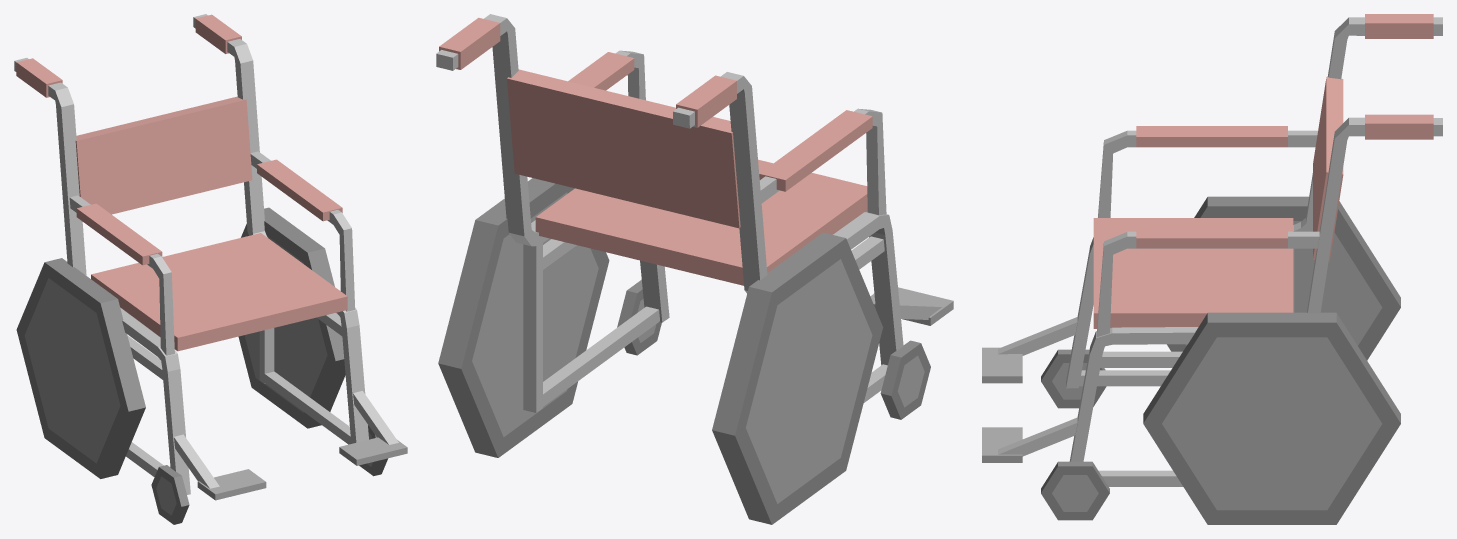
The model's file is wheelchair.fbx.
3 views of the same model, side by side, from view 1: azimuth 30°, elevation 25°; view 2: azimuth 150°, elevation 25°; view 3: azimuth 270°, elevation 25° (orthographic). The views are drawn at different scales.
Visible parts, largest first — view 1: Cube_2; view 2: Cube_2; view 3: Cube_2.
Boxes of the visible parts, x1,y1,x2,y2 form: Cube_2: [14, 14, 407, 524]; Cube_2: [436, 14, 953, 524]; Cube_2: [982, 14, 1442, 524].
Bounding box in the file's own units: 35.58 × 51.75 × 54.99.
